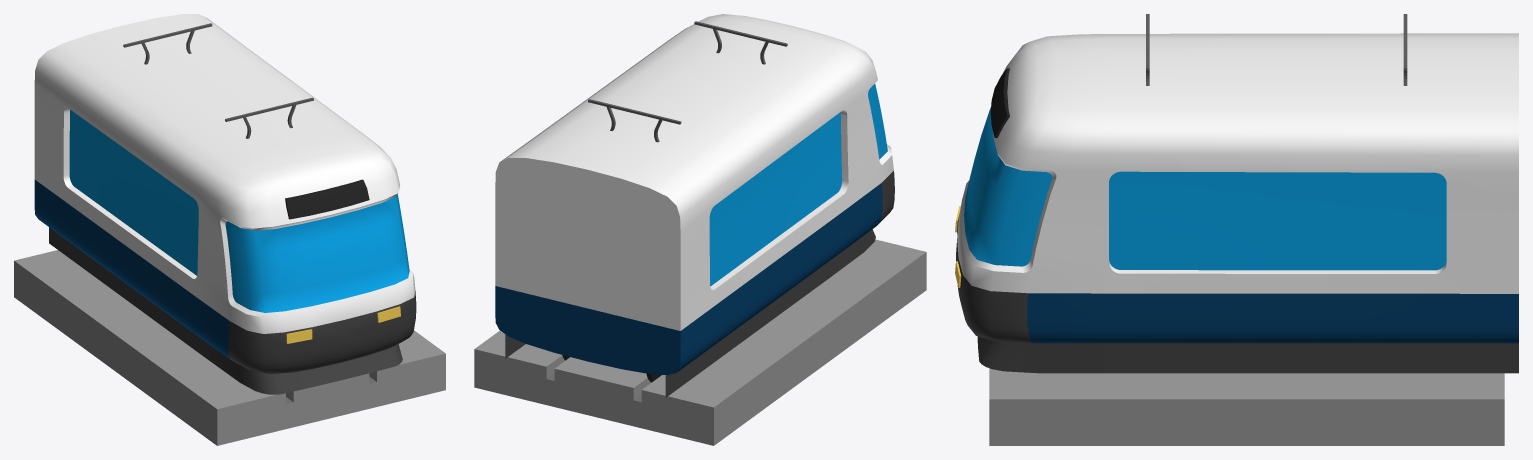
The model's file is tram.glb.
The picture shows the model from 3 angles, left to right: view 1: azimuth 30°, elevation 25°; view 2: azimuth 150°, elevation 25°; view 3: azimuth 270°, elevation 25°; orthographic projection. The views are drawn at different scales.
Parts seen in each view (by area): view 1: Cube.585; view 2: Cube.585; view 3: Cube.585.
Boxes of the visible parts, <box> form: Cube.585: <box>14,14,445,445</box>; Cube.585: <box>474,14,926,445</box>; Cube.585: <box>955,14,1518,445</box>.
Size of the model in its own units: 1.56 by 1.72 by 2.63.
Materials: 1 (1 with a texture image).
